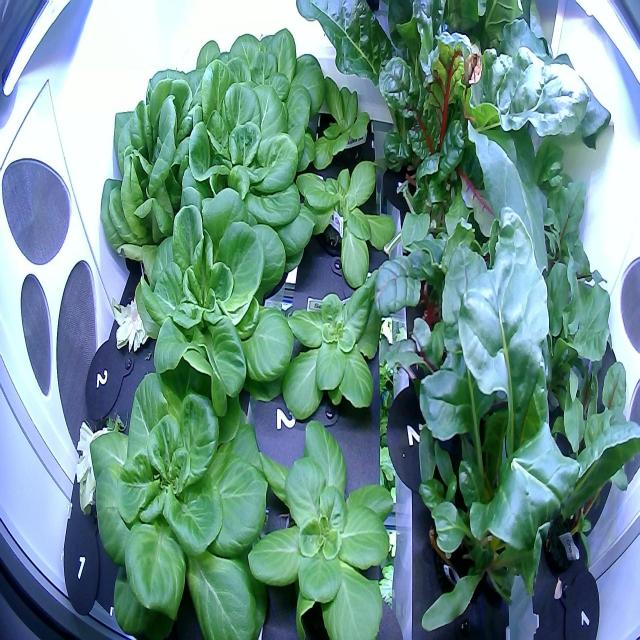Ready: (169, 72, 326, 270), (88, 76, 208, 275), (181, 21, 330, 162), (142, 33, 231, 156)
young: (82, 362, 280, 640), (133, 191, 299, 419), (240, 413, 400, 640), (272, 250, 396, 430), (285, 147, 409, 296), (300, 70, 384, 180)
